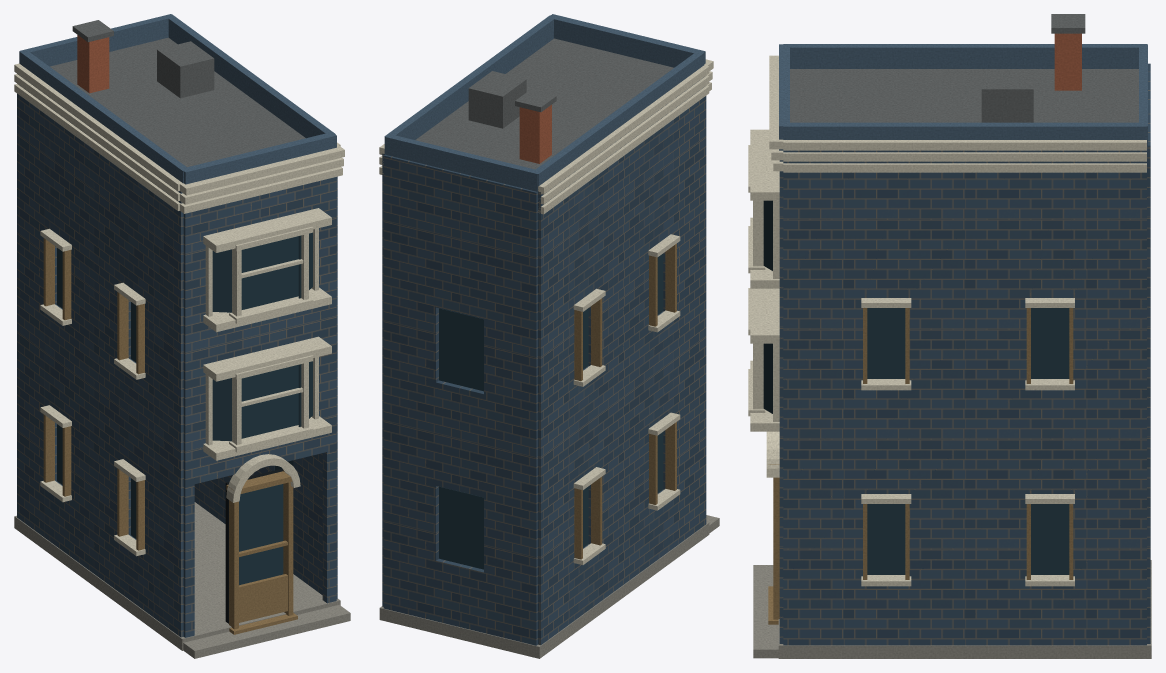
Rendered from VICT13_lod2.glb.
3 views of the same model, side by side, from view 1: azimuth 30°, elevation 25°; view 2: azimuth 150°, elevation 25°; view 3: azimuth 270°, elevation 25° (orthographic). The views are drawn at different scales.
Visible parts, largest first — view 1: VICT13_LOD2; view 2: VICT13_LOD2; view 3: VICT13_LOD2.
Boxes of the visible parts, x1,y1,x2,y2 form: VICT13_LOD2: [14, 14, 350, 658]; VICT13_LOD2: [379, 14, 719, 658]; VICT13_LOD2: [748, 14, 1151, 658].
Bounding box in the file's own units: 3.71 × 10.45 × 6.65.
Materials: 9 (7 with a texture image).
